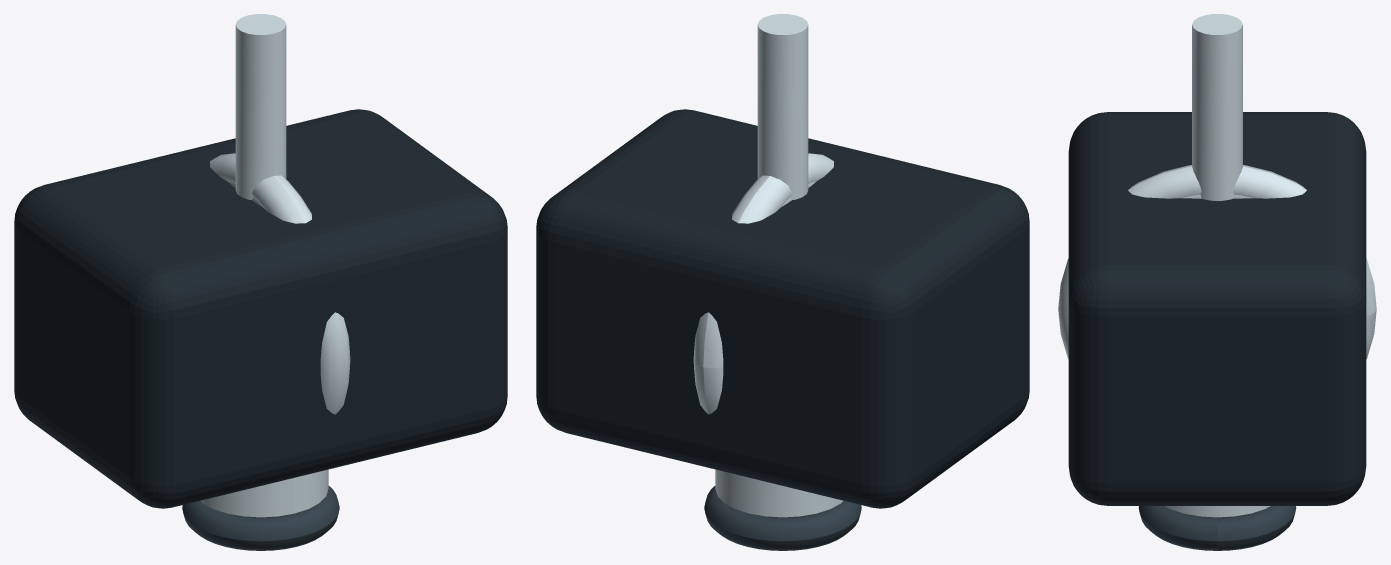
Rendered from remaining_systems_13.glb.
3 views of the same model, side by side, from view 1: azimuth 30°, elevation 25°; view 2: azimuth 150°, elevation 25°; view 3: azimuth 270°, elevation 25° (orthographic).
Parts seen in each view (by area): view 1: asset_mesh__remaining_systems_1277__reference_body, asset_mesh__remaining_systems_1276__piston_rod, asset_mesh__remaining_systems_1276__lower_eye, asset_mesh__remaining_systems_1295__functional_ring, asset_mesh__remaining_systems_1276__damper_body; view 2: asset_mesh__remaining_systems_1277__reference_body, asset_mesh__remaining_systems_1276__piston_rod, asset_mesh__remaining_systems_1276__lower_eye, asset_mesh__remaining_systems_1295__functional_ring, asset_mesh__remaining_systems_1276__damper_body; view 3: asset_mesh__remaining_systems_1277__reference_body, asset_mesh__remaining_systems_1276__piston_rod, asset_mesh__remaining_systems_1276__lower_eye, asset_mesh__remaining_systems_1295__functional_ring, asset_mesh__remaining_systems_1276__damper_body.
Part boxes in pixels (<box>): asset_mesh__remaining_systems_1277__reference_body: <box>14,109,507,508</box>; asset_mesh__remaining_systems_1276__piston_rod: <box>235,14,286,199</box>; asset_mesh__remaining_systems_1276__lower_eye: <box>182,486,339,550</box>; asset_mesh__remaining_systems_1295__functional_ring: <box>210,153,350,414</box>; asset_mesh__remaining_systems_1276__damper_body: <box>200,469,328,517</box>; asset_mesh__remaining_systems_1277__reference_body: <box>536,109,1029,508</box>; asset_mesh__remaining_systems_1276__piston_rod: <box>757,14,808,199</box>; asset_mesh__remaining_systems_1276__lower_eye: <box>704,486,861,550</box>; asset_mesh__remaining_systems_1295__functional_ring: <box>693,153,833,414</box>; asset_mesh__remaining_systems_1276__damper_body: <box>715,469,843,517</box>; asset_mesh__remaining_systems_1277__reference_body: <box>1068,112,1366,505</box>; asset_mesh__remaining_systems_1276__piston_rod: <box>1192,14,1242,200</box>; asset_mesh__remaining_systems_1276__lower_eye: <box>1138,506,1296,550</box>; asset_mesh__remaining_systems_1295__functional_ring: <box>1058,165,1376,359</box>; asset_mesh__remaining_systems_1276__damper_body: <box>1164,506,1270,517</box>.
Size of the model in its own units: 1.22 by 1.55 by 0.8996.
